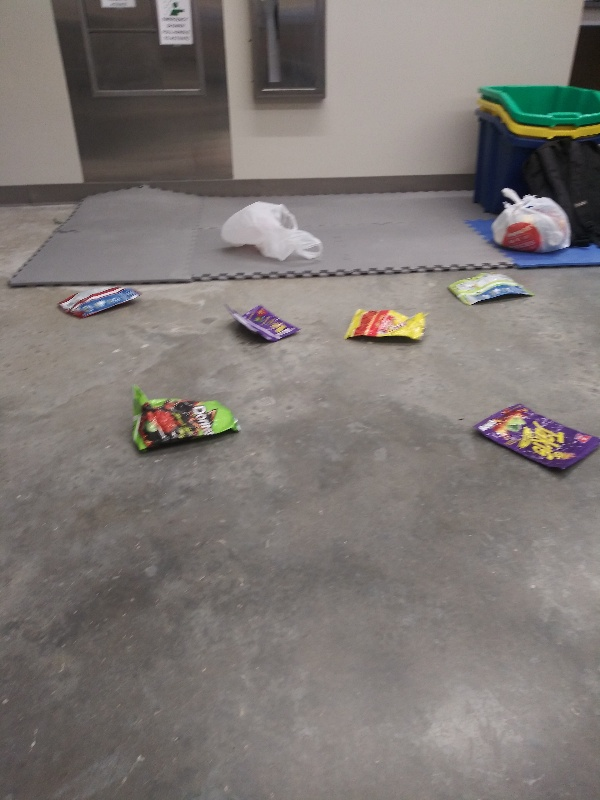bag: (465, 398, 600, 481), (123, 378, 245, 457), (218, 297, 305, 345), (337, 305, 433, 344), (442, 270, 541, 307), (54, 284, 147, 320)
